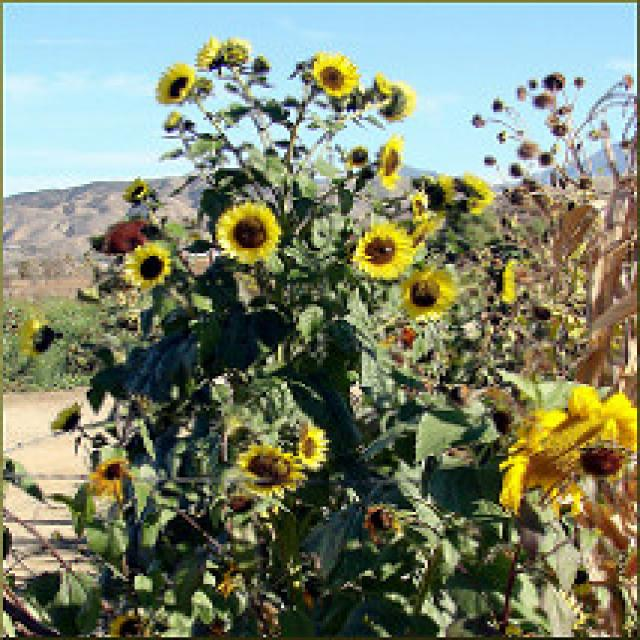sunflower: (219, 204, 286, 268), (219, 204, 234, 214)
